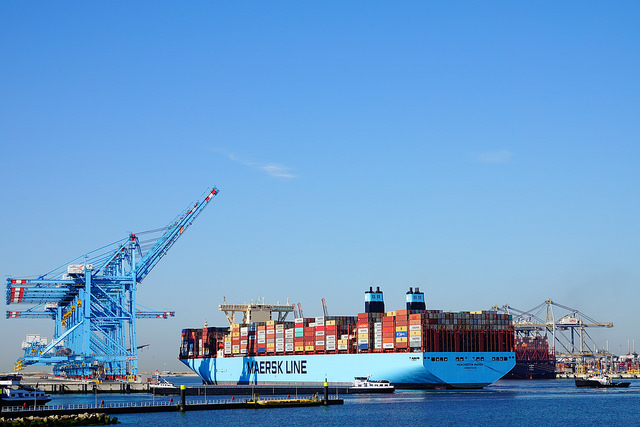boat: (354, 375, 395, 395)
container_ship: (179, 291, 516, 385)
tug_boat: (575, 362, 631, 390)
